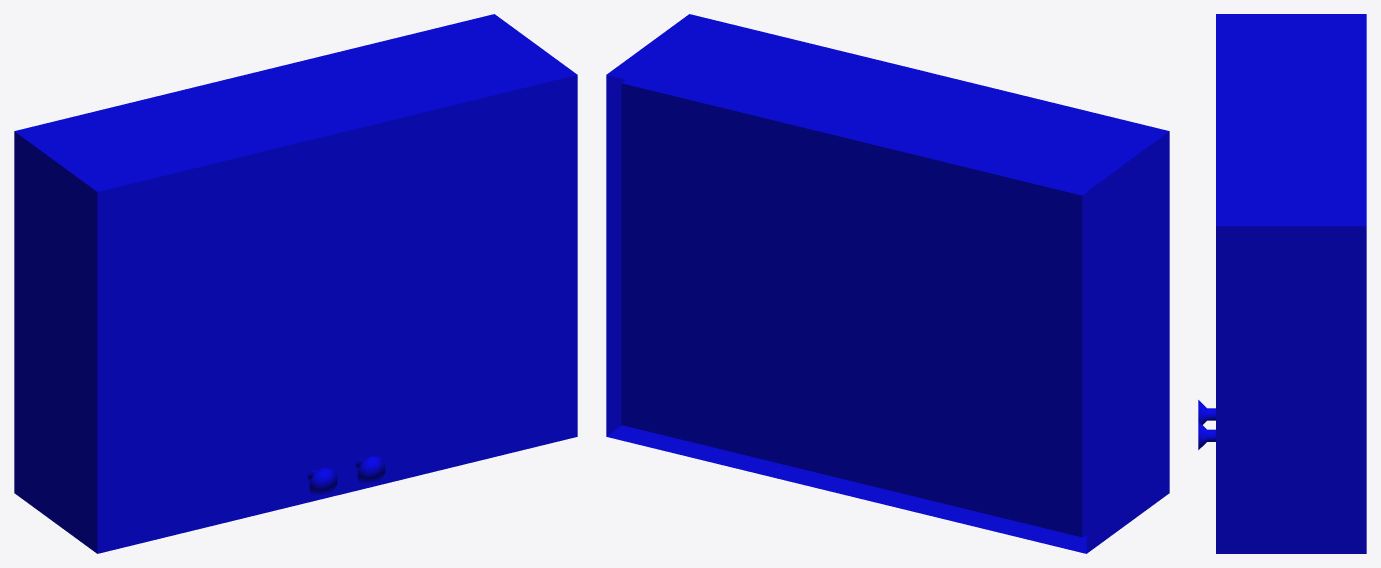
Rendered from Object_CupboardLeft.fbx.
The picture shows the model from 3 angles, left to right: view 1: azimuth 30°, elevation 25°; view 2: azimuth 150°, elevation 25°; view 3: azimuth 270°, elevation 25°; orthographic projection. The views are drawn at different scales.
Parts seen in each view (by area): view 1: CupboardLeft_LeftDoor_LOW, CupboardLeft_RightDoor_LOW, CupboardLeft_Body_LOW; view 2: CupboardLeft_Body_LOW, CupboardLeft_LeftDoor_LOW, CupboardLeft_RightDoor_LOW; view 3: CupboardLeft_Body_LOW, CupboardLeft_RightDoor_LOW, CupboardLeft_LeftDoor_LOW.
Part boxes in pixels (x1,y1,x2,y2): CupboardLeft_LeftDoor_LOW: (92,129,337,553); CupboardLeft_RightDoor_LOW: (332,71,577,495); CupboardLeft_Body_LOW: (14,14,571,549); CupboardLeft_Body_LOW: (606,18,1164,553); CupboardLeft_LeftDoor_LOW: (924,72,1169,496); CupboardLeft_RightDoor_LOW: (684,14,929,76); CupboardLeft_Body_LOW: (1226,14,1366,553); CupboardLeft_RightDoor_LOW: (1198,120,1225,553); CupboardLeft_LeftDoor_LOW: (1198,14,1225,424).
Size of the model in its own units: 1 by 0.72 by 0.3355.
